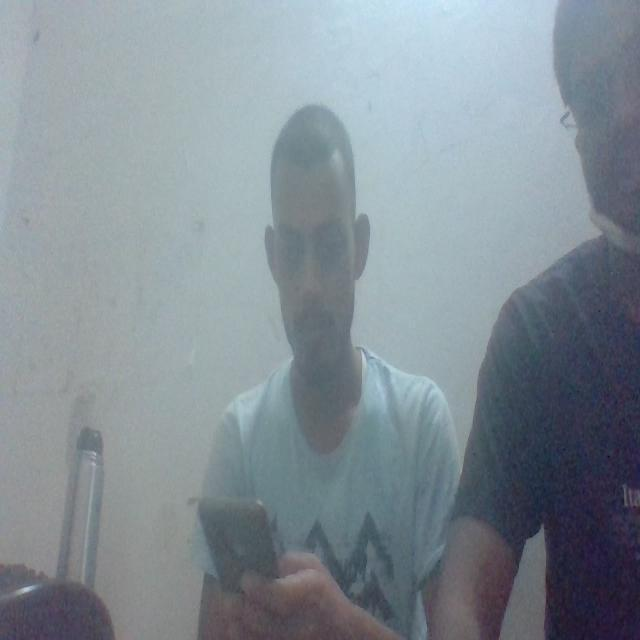Phone: (193, 494, 286, 593)
